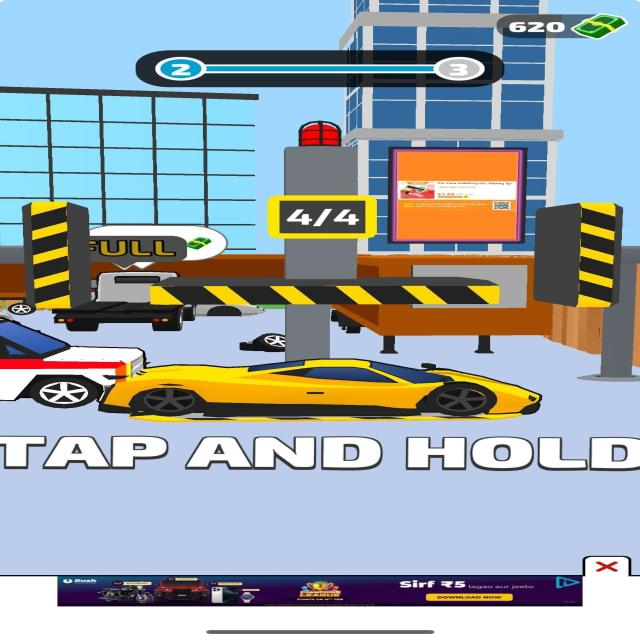billboard: (388, 146, 522, 244)
